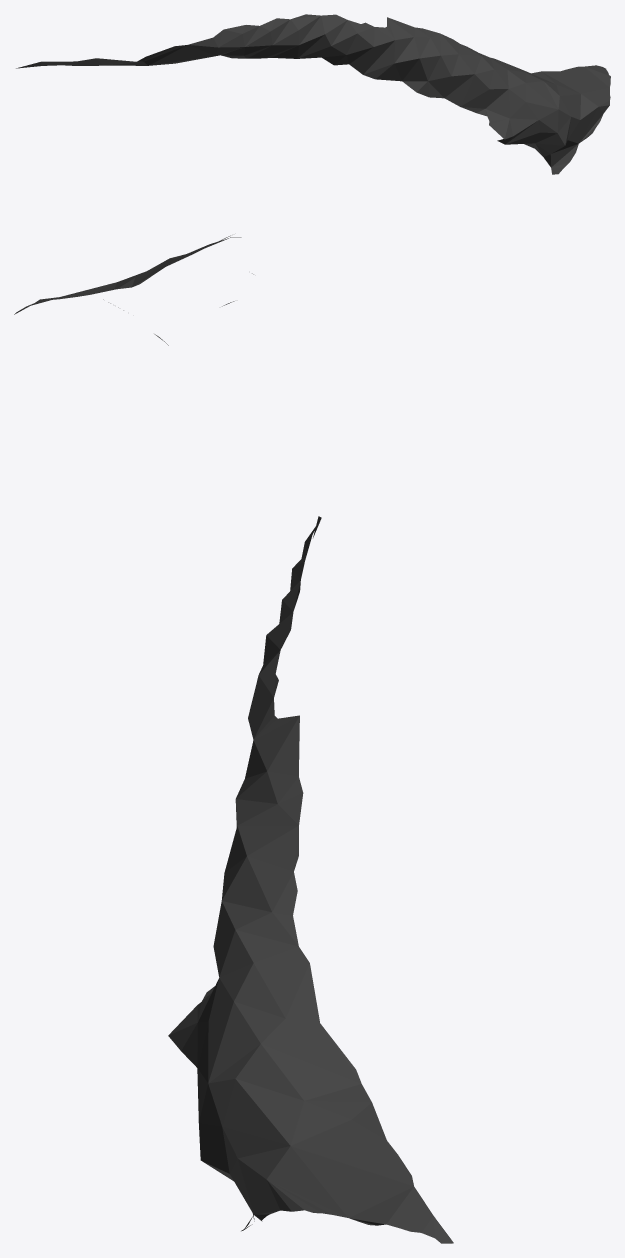
Rendered from A_carotid_common_L_A_carotid_common_L.glb.
3 renders of one model, top to bottom at view 1: azimuth 30°, elevation 25°; view 2: azimuth 150°, elevation 25°; view 3: azimuth 270°, elevation 25°, orthographic. The views are drawn at different scales.
Parts seen in each view (by area): view 1: A_carotid_common_L_A_carotid_common_L; view 2: A_carotid_common_L_A_carotid_common_L; view 3: A_carotid_common_L_A_carotid_common_L.
Part boxes in pixels (bbox=[...]): A_carotid_common_L_A_carotid_common_L: bbox=[16, 14, 610, 174]; A_carotid_common_L_A_carotid_common_L: bbox=[14, 235, 253, 345]; A_carotid_common_L_A_carotid_common_L: bbox=[168, 516, 453, 1243].
Bounding box in the file's own units: 0.035 × 0.0118 × 0.00739.
1 material, 1 textured.
